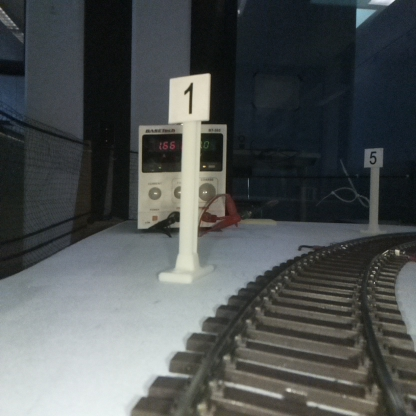white-info-1: (169, 75, 209, 279)
white-info-5: (364, 147, 383, 233)
